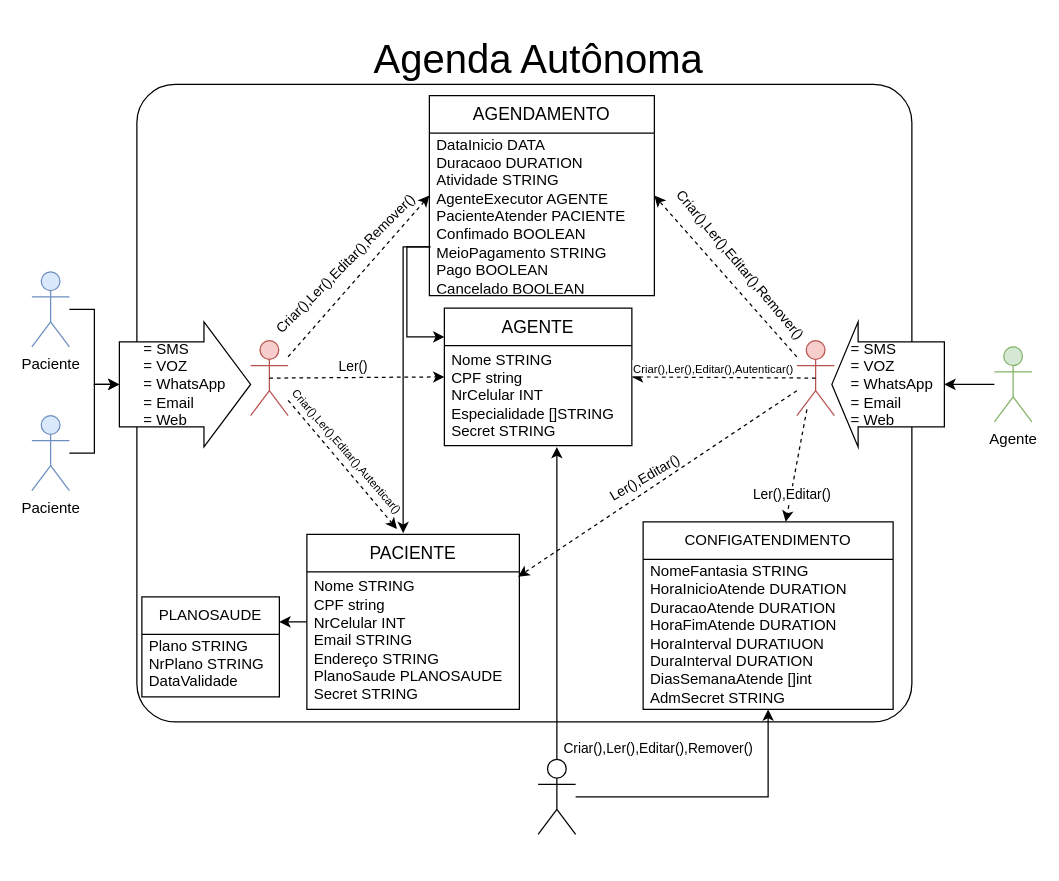
Some shapes in this 1059 by 881 pixel diagram are drawn without their labels. The centre of each missing label's shape, as x and y in pixels:
"Instalador/Suporte" goes at pixel 556 796.
"Robô Assistente" goes at pixel 815 377.
"Robô Atendente" goes at pixel 268 377.
